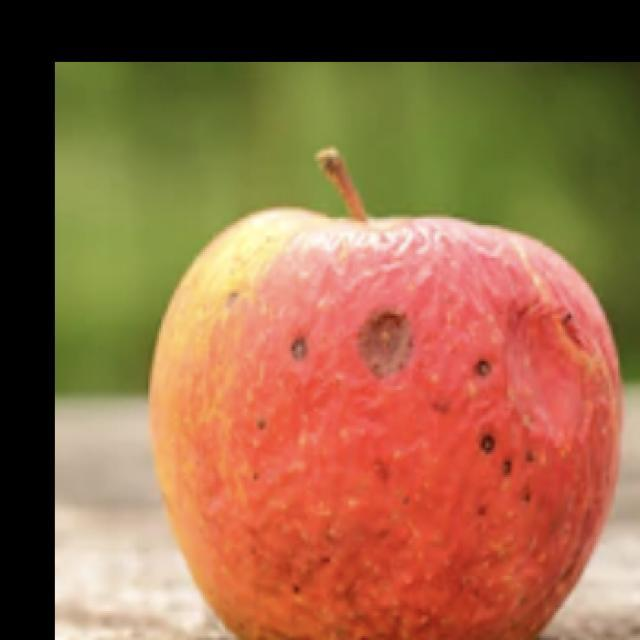Rotten: (155, 210, 640, 640)
